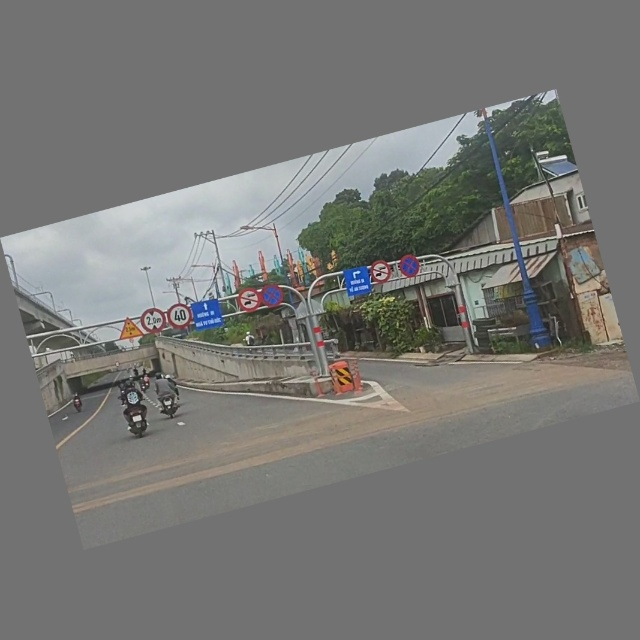P.107: (235, 285, 263, 315), (369, 259, 394, 286)
P.117*: (137, 306, 170, 337)
P.127*40: (166, 301, 195, 332)
P.130: (258, 281, 286, 310), (396, 251, 422, 281)
W.239b*: (114, 314, 144, 344)
